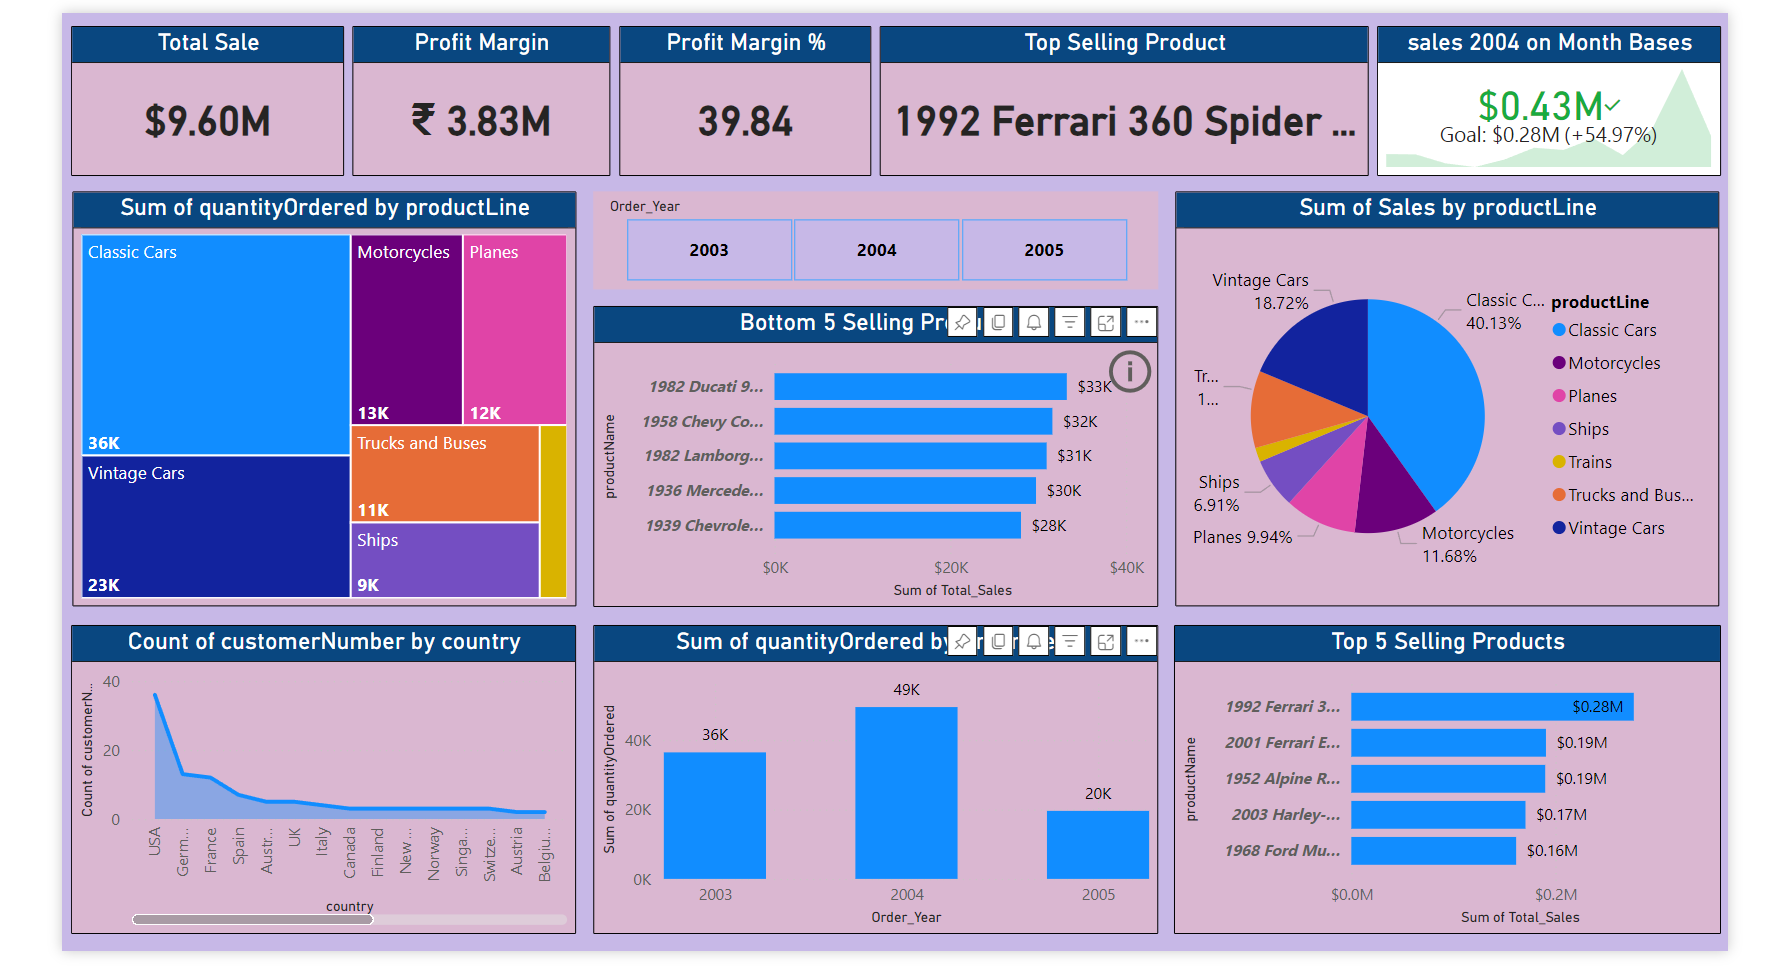

The page's visual inventory and layout, read from the dashboard file:
{"tool":"powerbi","page":{"name":"Dashboard","canvas":[1280,720],"ordinal":0},"visuals":[{"type":"barChart","title":"Top 5 Selling Products","fields":{"Category":["Products.productName"],"Y":["Sum(Order_Details.Total_Sales)"]},"box":[853.5,463.8,420.3,244],"z":0},{"type":"pieChart","title":"Total Sales By ProductLine","fields":{"Y":["Sum(Order_Details.Total_Sales)"],"Series":["ProductLines.productLine"]},"box":[853.5,132.9,417.8,323.2],"z":1000},{"type":"card","title":"Total Sale","fields":{"Values":["Sum(Order_Details.Total_Sales)"]},"box":[8.9,10.2,194.2,115],"z":2000},{"type":"slicer","fields":{"Values":["Order_Details.Order_Year"]},"box":[398.6,132.9,451,75.4],"z":3000},{"type":"kpi","title":"sales 2004 on Month Bases","fields":{"Goal":["Order_Details.sales_2003"],"TrendLine":["Orders.Order_MonthName"],"Indicator":["Order_Details.sales_2004"]},"box":[1009.6,10.3,264.1,114.5],"z":4000},{"type":"areaChart","title":"Customer Count By Country","fields":{"Category":["Customers.country"],"Y":["CountNonNull(Customers.customerNumber)"]},"box":[7.7,463.8,387.1,244],"z":5000},{"type":"treemap","title":"Total Quantity By ProductLine","fields":{"Group":["ProductLines.productLine"],"Values":["Sum(Order_Details.quantityOrdered)"]},"box":[7.7,132.9,387.1,323.2],"z":6000},{"type":"columnChart","title":"Total quantityOrdered by OrderYear","fields":{"Y":["Sum(Order_Details.quantityOrdered)"],"Category":["Order_Details.Order_Year"]},"box":[398.6,463.8,451,244],"z":7000},{"type":"card","title":"Top Selling Product","fields":{"Values":["Order_Details.TopOrder_Product"]},"box":[581.3,10.2,421.6,115],"z":8000},{"type":"card","title":"Profit Margin %","fields":{"Values":["Order_Details.Profit_Margin%"]},"box":[401.2,10.2,173.8,115],"z":9000},{"type":"card","title":"Profit Margin","fields":{"Values":["Order_Details.Progit_Margin"]},"box":[208.3,10.2,186.5,115],"z":10000},{"type":"barChart","title":"Bottom 5 Selling Products","fields":{"Category":["Products.productName"],"Y":["Sum(Order_Details.Total_Sales)"]},"box":[398.6,217.2,451,238.9],"z":11000},{"type":"actionButton","box":[797.3,238.9,44.7,43.4],"z":14000}]}

Visuals, with their boxes in screenshot pixels (x1, y1, x2, y2), scaled from the page's 1280x720 canvas onto the 1770x979 screenshot:
"Top 5 Selling Products" barChart: BBox(1180, 631, 1761, 962)
"Total Sales By ProductLine" pieChart: BBox(1180, 181, 1758, 620)
"Total Sale" card: BBox(12, 14, 281, 170)
slicer - Order_Details.Order_Year: BBox(551, 181, 1175, 283)
"sales 2004 on Month Bases" kpi: BBox(1396, 14, 1761, 170)
"Customer Count By Country" areaChart: BBox(11, 631, 546, 962)
"Total Quantity By ProductLine" treemap: BBox(11, 181, 546, 620)
"Total quantityOrdered by OrderYear" columnChart: BBox(551, 631, 1175, 962)
"Top Selling Product" card: BBox(804, 14, 1387, 170)
"Profit Margin %" card: BBox(555, 14, 795, 170)
"Profit Margin" card: BBox(288, 14, 546, 170)
"Bottom 5 Selling Products" barChart: BBox(551, 295, 1175, 620)
actionButton: BBox(1103, 325, 1164, 384)
